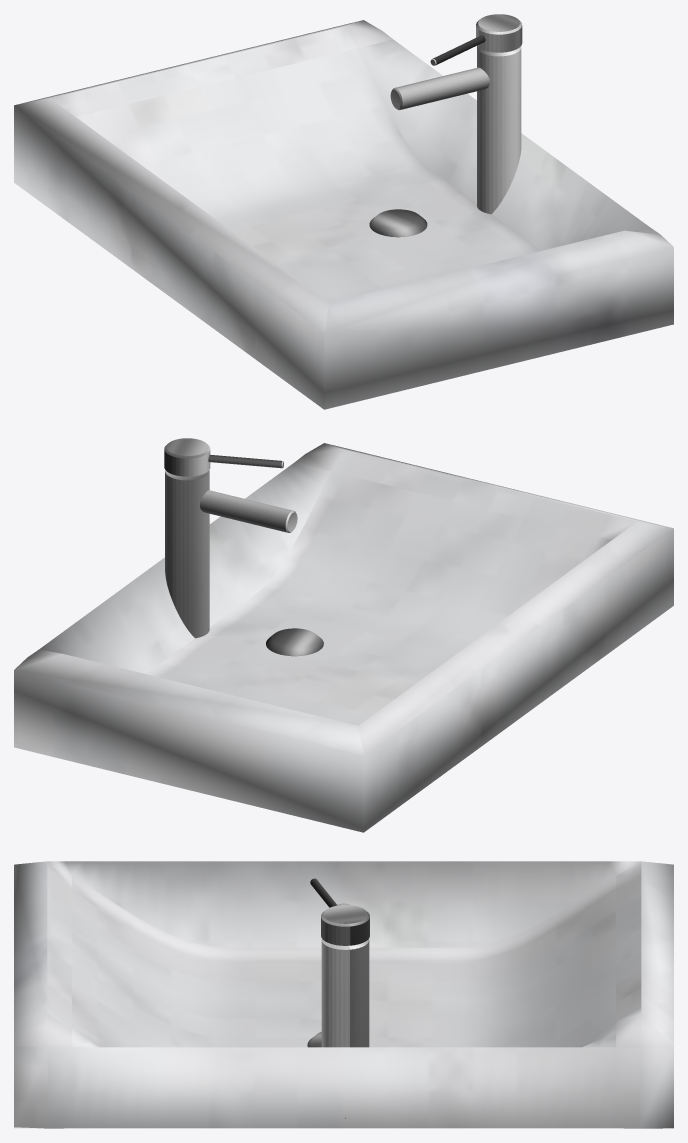
File: Bathroom SinkNEW.fbx
The picture shows the model from 3 angles, top to bottom: view 1: azimuth 30°, elevation 25°; view 2: azimuth 150°, elevation 25°; view 3: azimuth 270°, elevation 25°; orthographic projection. The views are drawn at different scales.
Visible parts, largest first — view 1: Sink, Water Tap, Thingy; view 2: Sink, Water Tap, Thingy; view 3: Sink, Water Tap.
Part boxes in pixels (left/top/right/bottom): Sink: left=14, top=20, right=673, bottom=409; Water Tap: left=390, top=14, right=522, bottom=214; Thingy: left=369, top=209, right=427, bottom=237; Sink: left=14, top=443, right=673, bottom=832; Water Tap: left=164, top=438, right=297, bottom=638; Thingy: left=266, top=628, right=323, bottom=656; Sink: left=14, top=861, right=673, bottom=1128; Water Tap: left=310, top=878, right=369, bottom=1118.
Size of the model in its own units: 63.88 by 33.22 by 97.34.
3 materials, 3 textured.
